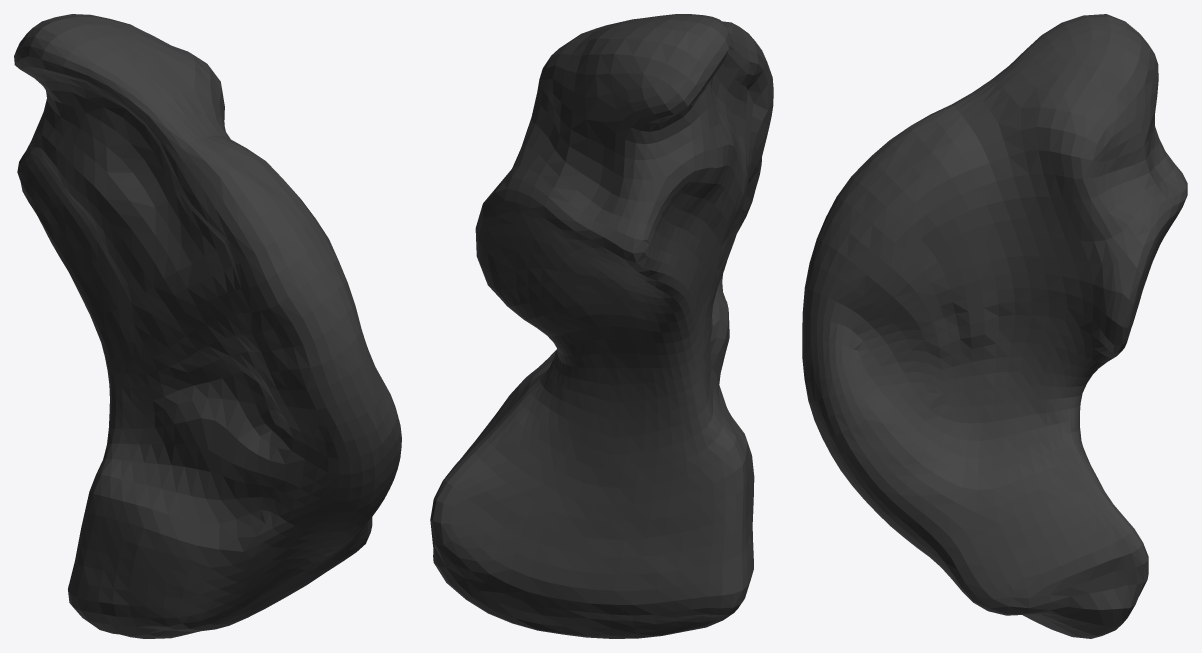
Rendered from Carpal_bone_3rd.glb.
The picture shows the model from 3 angles, left to right: view 1: azimuth 30°, elevation 25°; view 2: azimuth 150°, elevation 25°; view 3: azimuth 270°, elevation 25°; orthographic projection. The views are drawn at different scales.
Visible parts, largest first — view 1: Carpal_bone_3rd; view 2: Carpal_bone_3rd; view 3: Carpal_bone_3rd.
Part boxes in pixels (x1=…): Carpal_bone_3rd: x1=14, y1=14, x2=401, y2=638; Carpal_bone_3rd: x1=430, y1=14, x2=773, y2=638; Carpal_bone_3rd: x1=802, y1=14, x2=1187, y2=638.
Size of the model in its own units: 0.1148 by 0.237 by 0.1501.
Materials: 1 (1 with a texture image).
